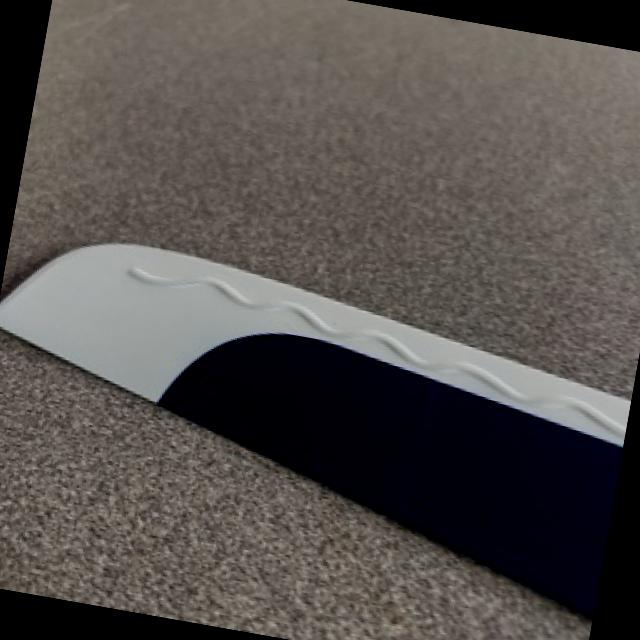healthy: (0, 241, 631, 613)
